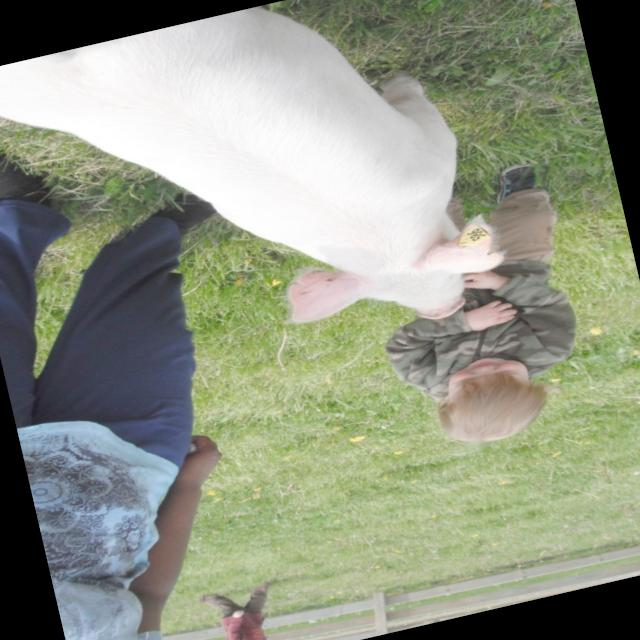pig: (0, 4, 504, 321)
